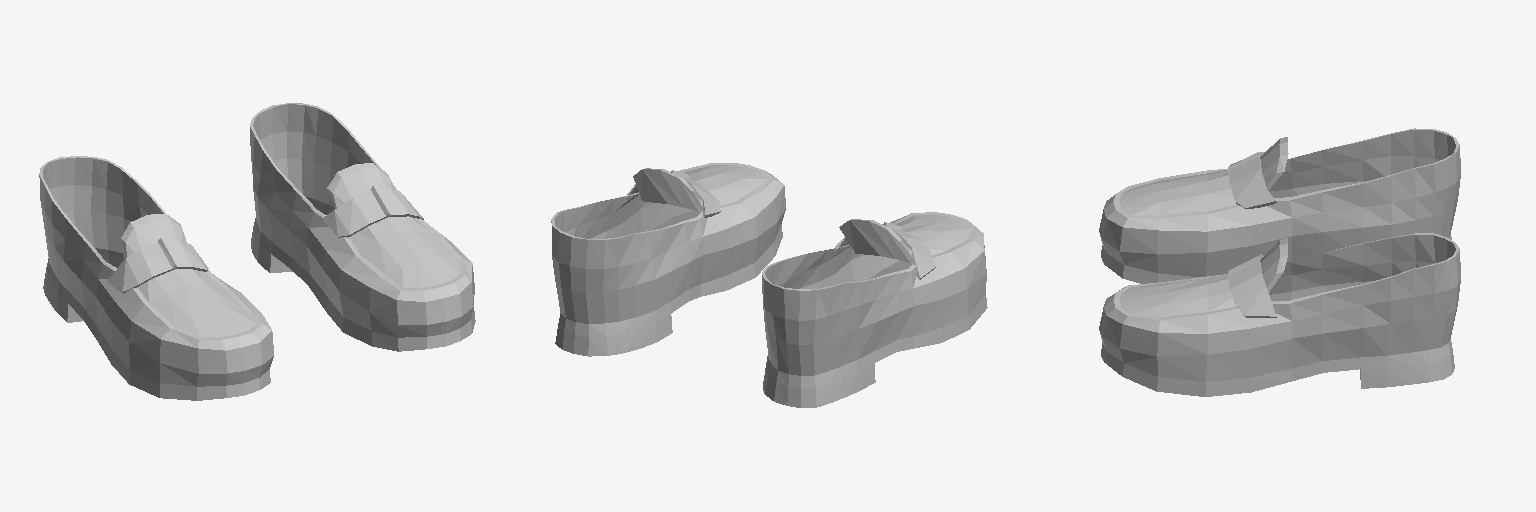
The model's file is 99 Shoes.obj.
The picture shows the model from 3 angles: view 1: azimuth 30°, elevation 25°; view 2: azimuth 150°, elevation 25°; view 3: azimuth 270°, elevation 25°; orthographic projection.
Visible parts, largest first — view 1: Boots_mtr_Black_TailedGull_115.024; view 2: Boots_mtr_Black_TailedGull_115.024; view 3: Boots_mtr_Black_TailedGull_115.024.
Boxes of the visible parts, box(x1,y1,x2,y2) form: Boots_mtr_Black_TailedGull_115.024: box(39, 103, 475, 400); Boots_mtr_Black_TailedGull_115.024: box(551, 163, 987, 407); Boots_mtr_Black_TailedGull_115.024: box(1099, 128, 1460, 396).
Bounding box in the file's own units: 0.2538 × 0.0942 × 0.2425.